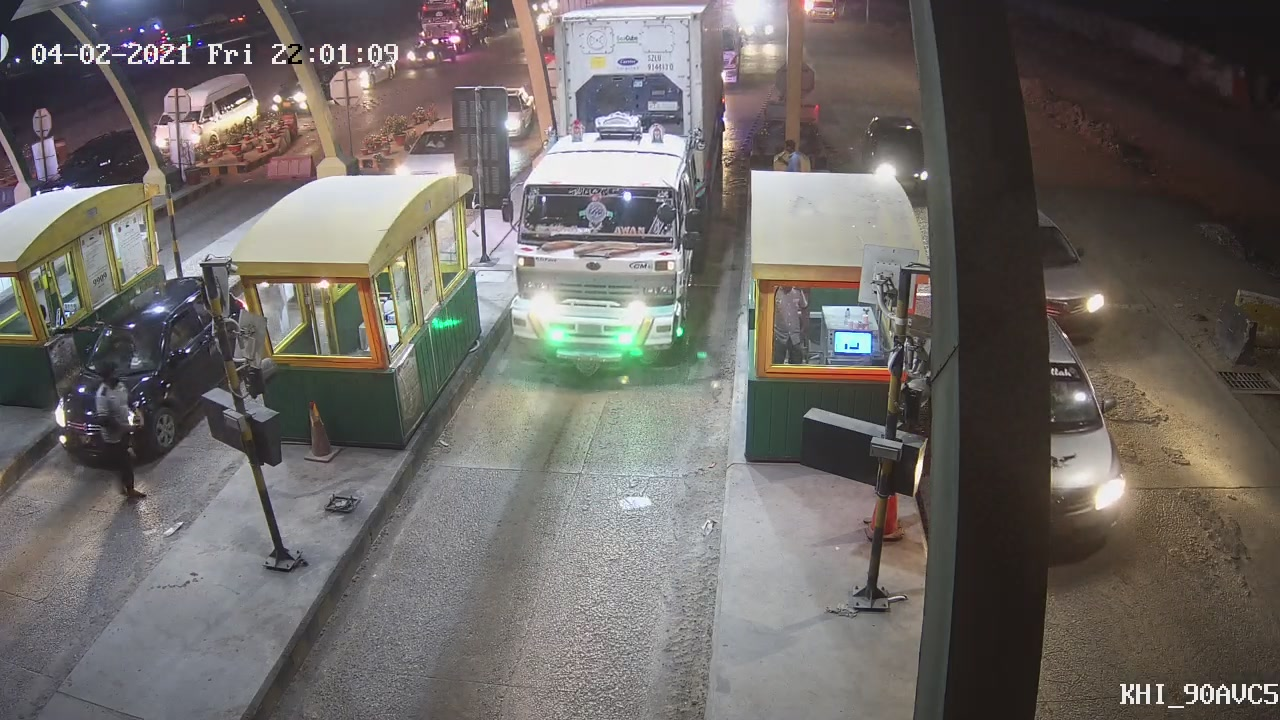F6: (497, 1, 743, 382)
